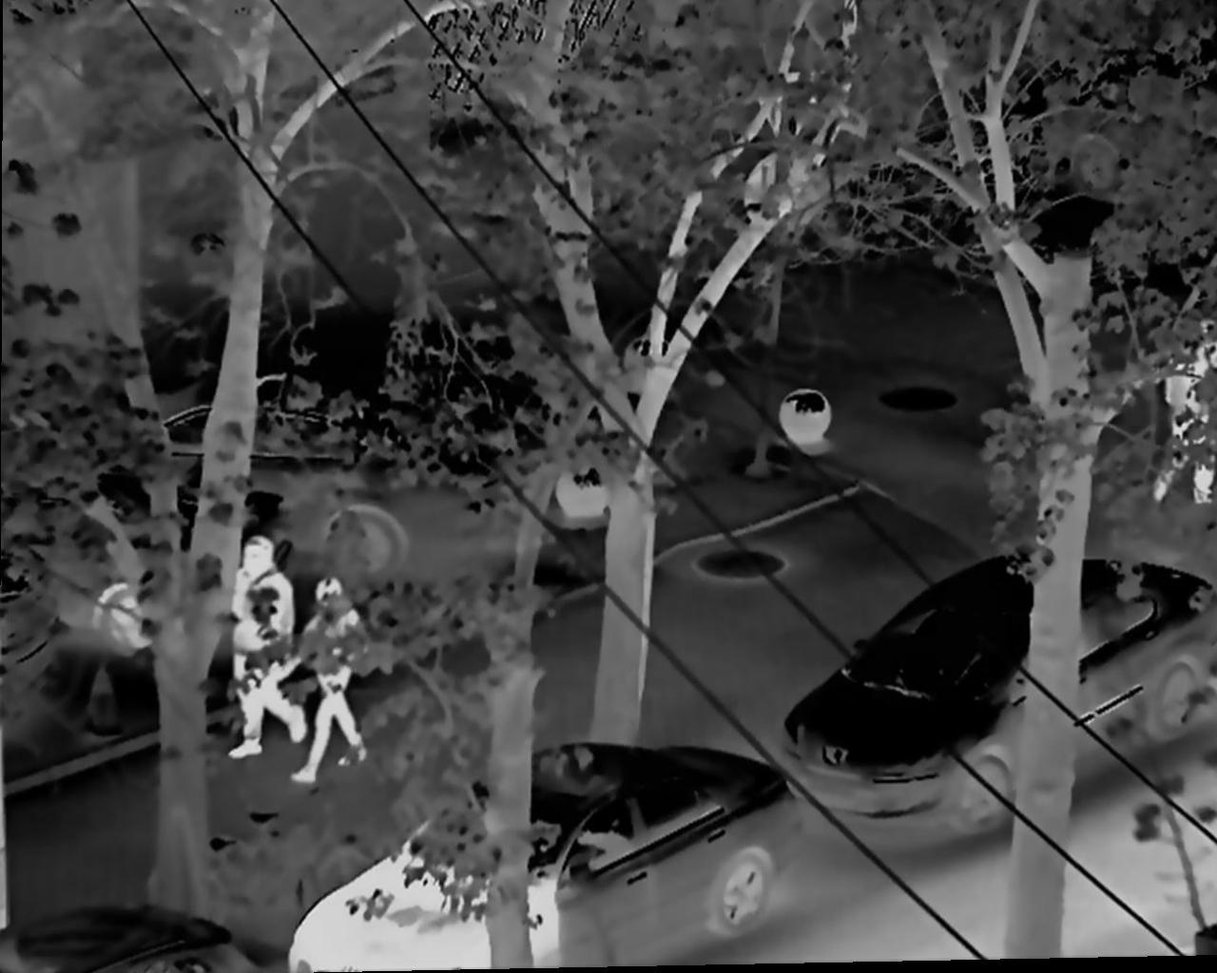person: (229, 536, 310, 761), (299, 566, 377, 784), (1156, 330, 1217, 514)
